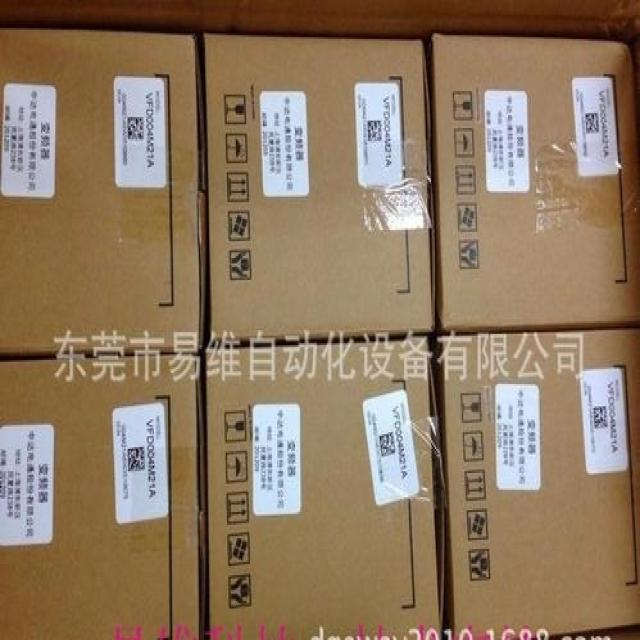Carton: (206, 338, 442, 634), (204, 35, 431, 336), (3, 28, 198, 349), (445, 326, 637, 636), (436, 35, 637, 328), (0, 358, 201, 638)
